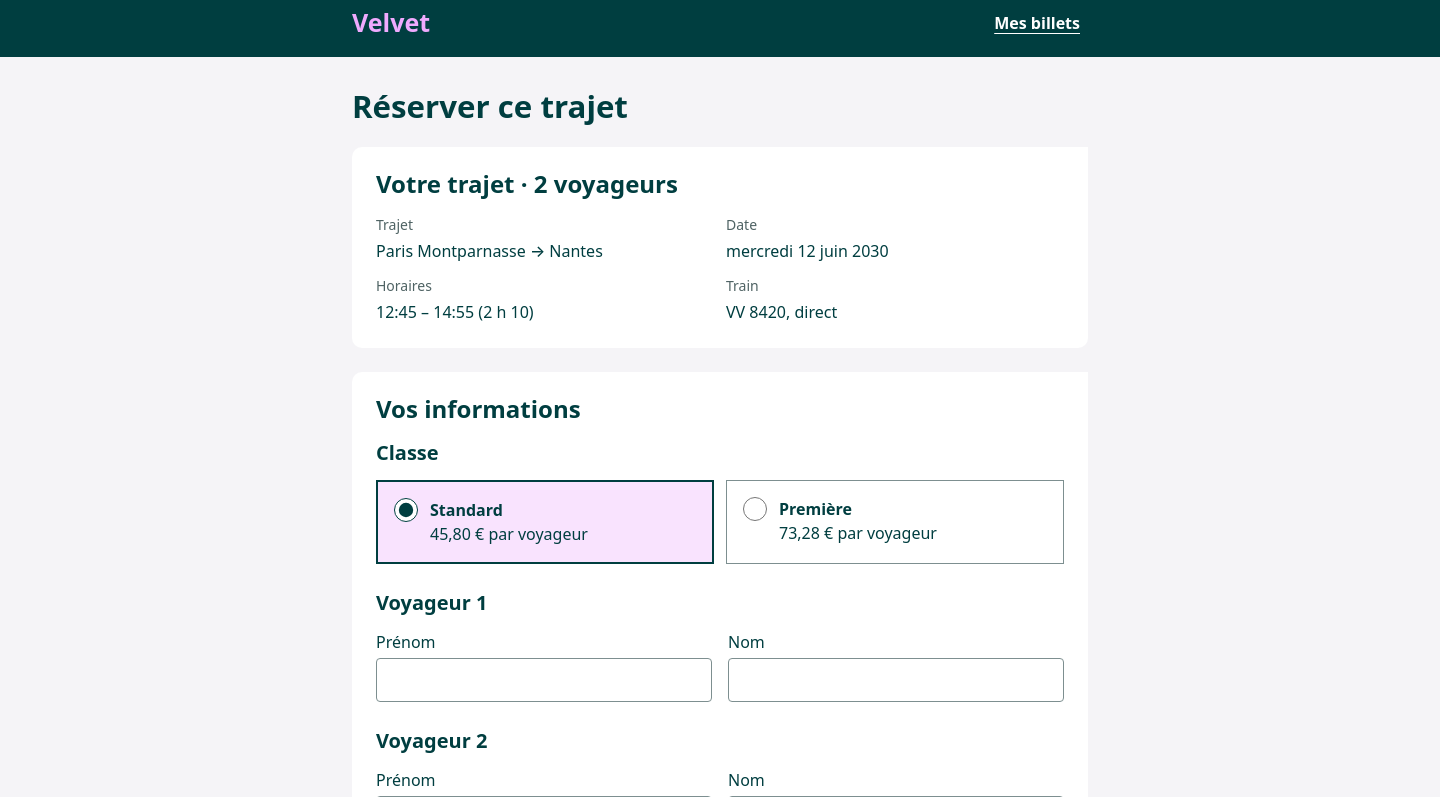
Test: réservation › réserve pour deux voyageurs, confirme et enregistre le billet sur l’appareil
In the 1st field labelled "Prénom": {"x": 544, "y": 680} x1=376 y1=658 x2=712 y2=702, type "Ada"
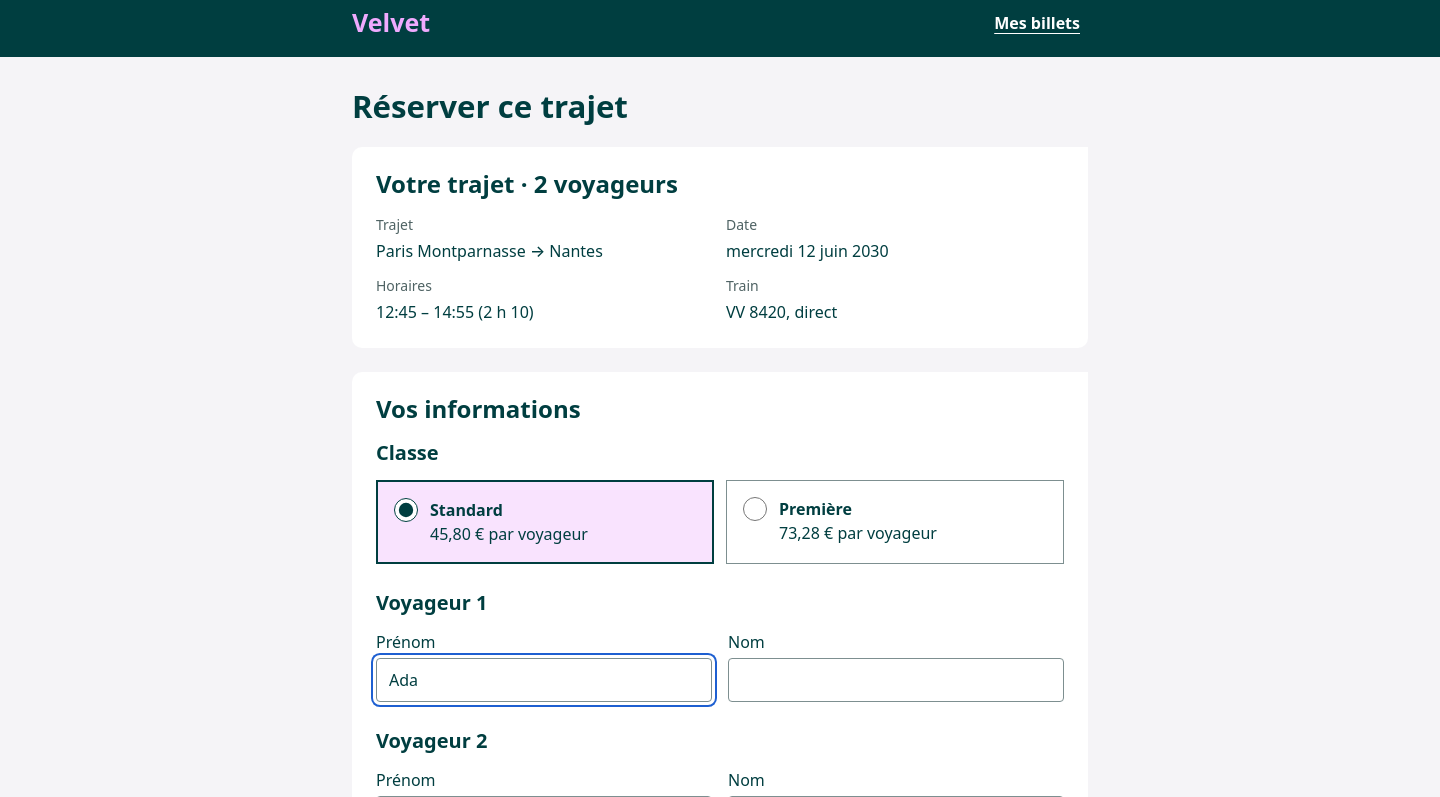
In the 1st field labelled "Nom": {"x": 896, "y": 680} x1=728 y1=658 x2=1064 y2=702, type "Lovelace"
(page scrolled)
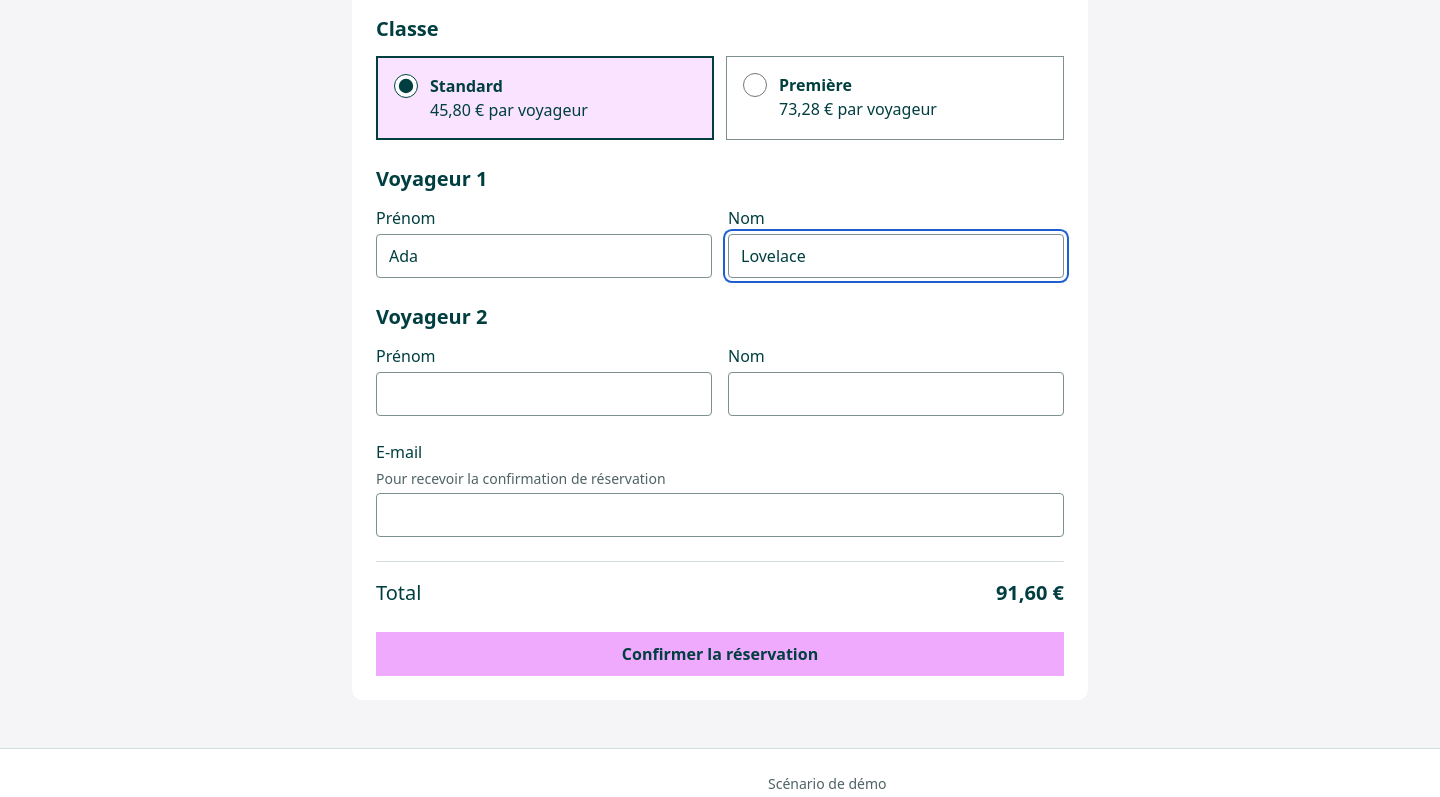
In the 2nd field labelled "Prénom": {"x": 544, "y": 394} x1=376 y1=372 x2=712 y2=416, type "Alan"
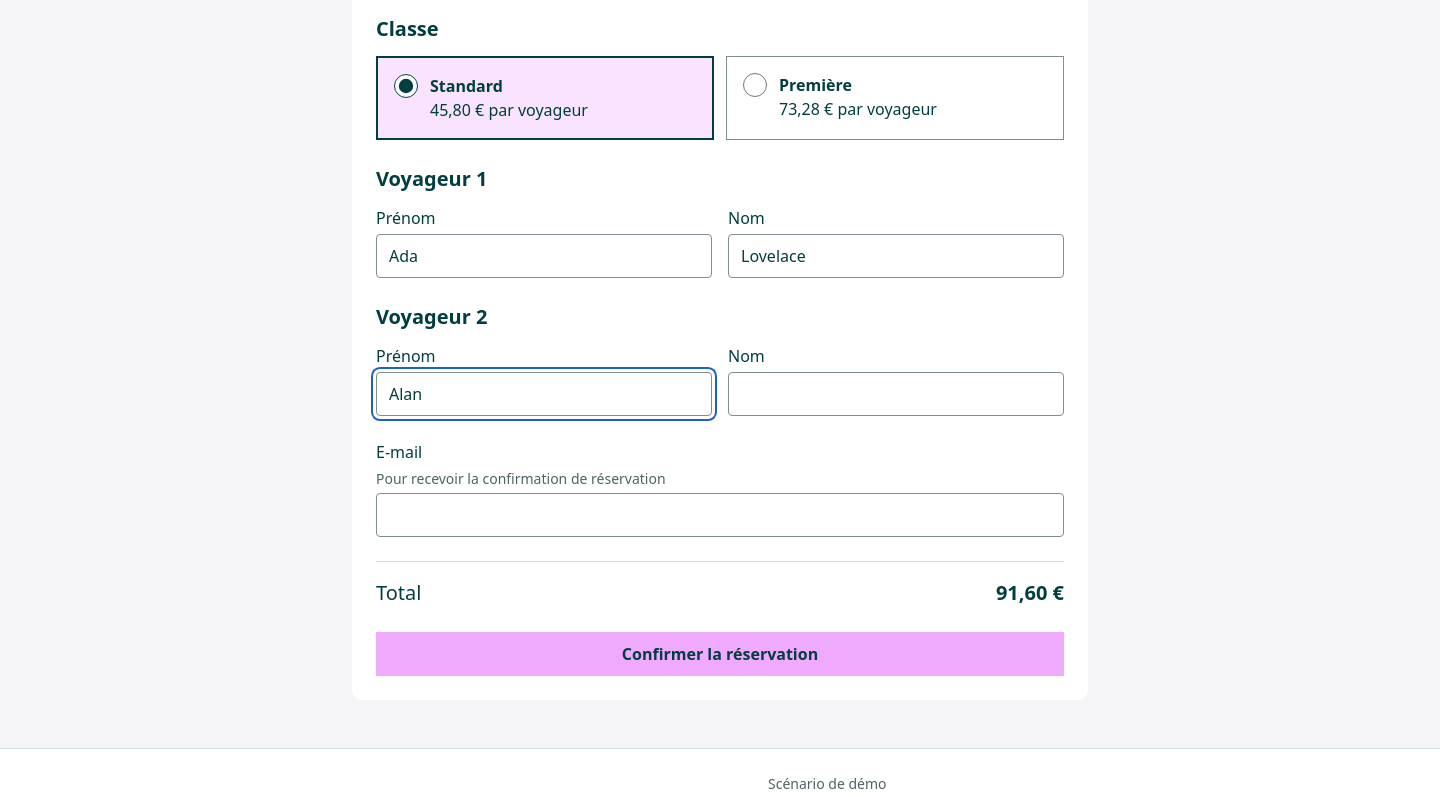
In the 2nd field labelled "Nom": {"x": 896, "y": 394} x1=728 y1=372 x2=1064 y2=416, type "Turing"
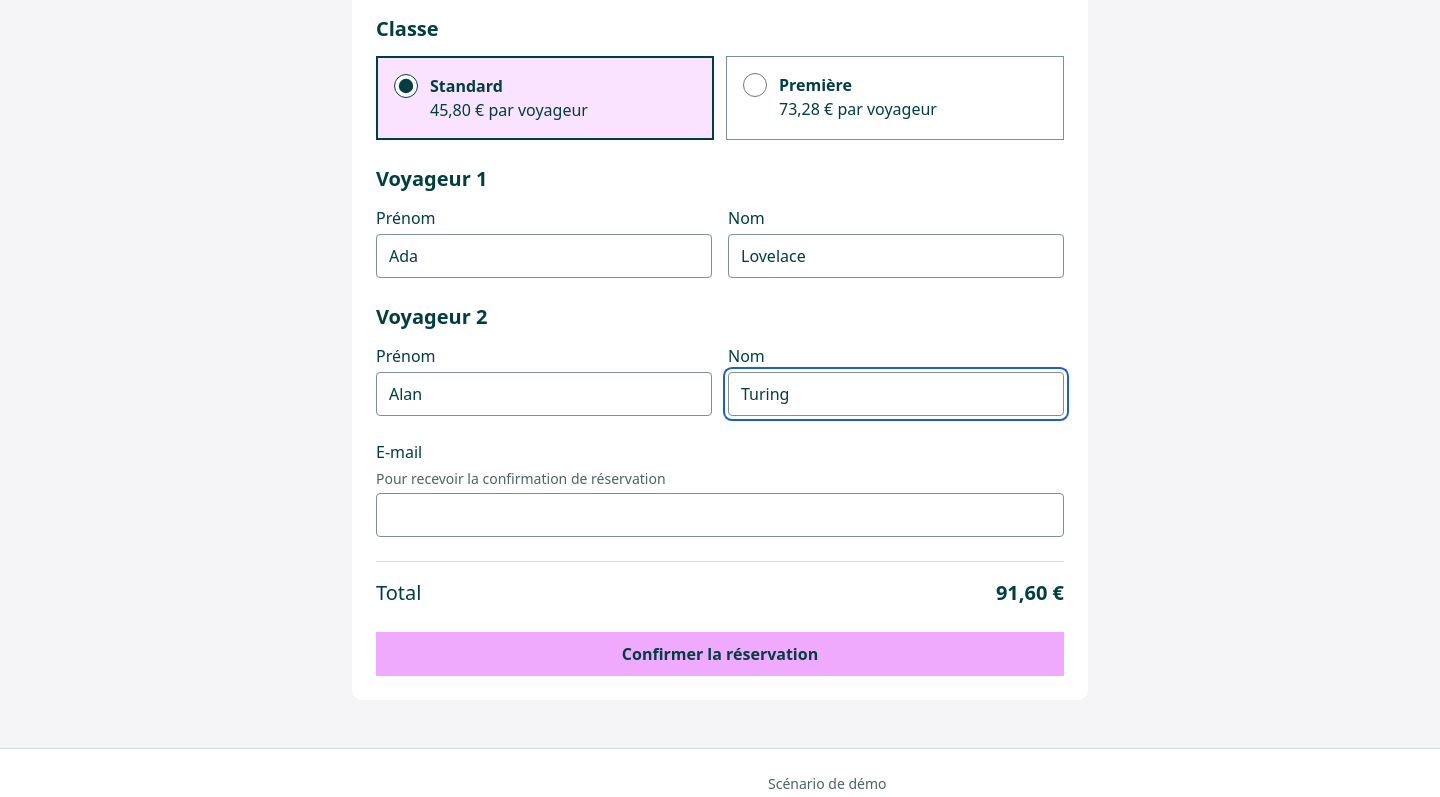
In the field labelled "E-mail": {"x": 720, "y": 515} x1=376 y1=493 x2=1064 y2=537, type "ada@exemple.fr"
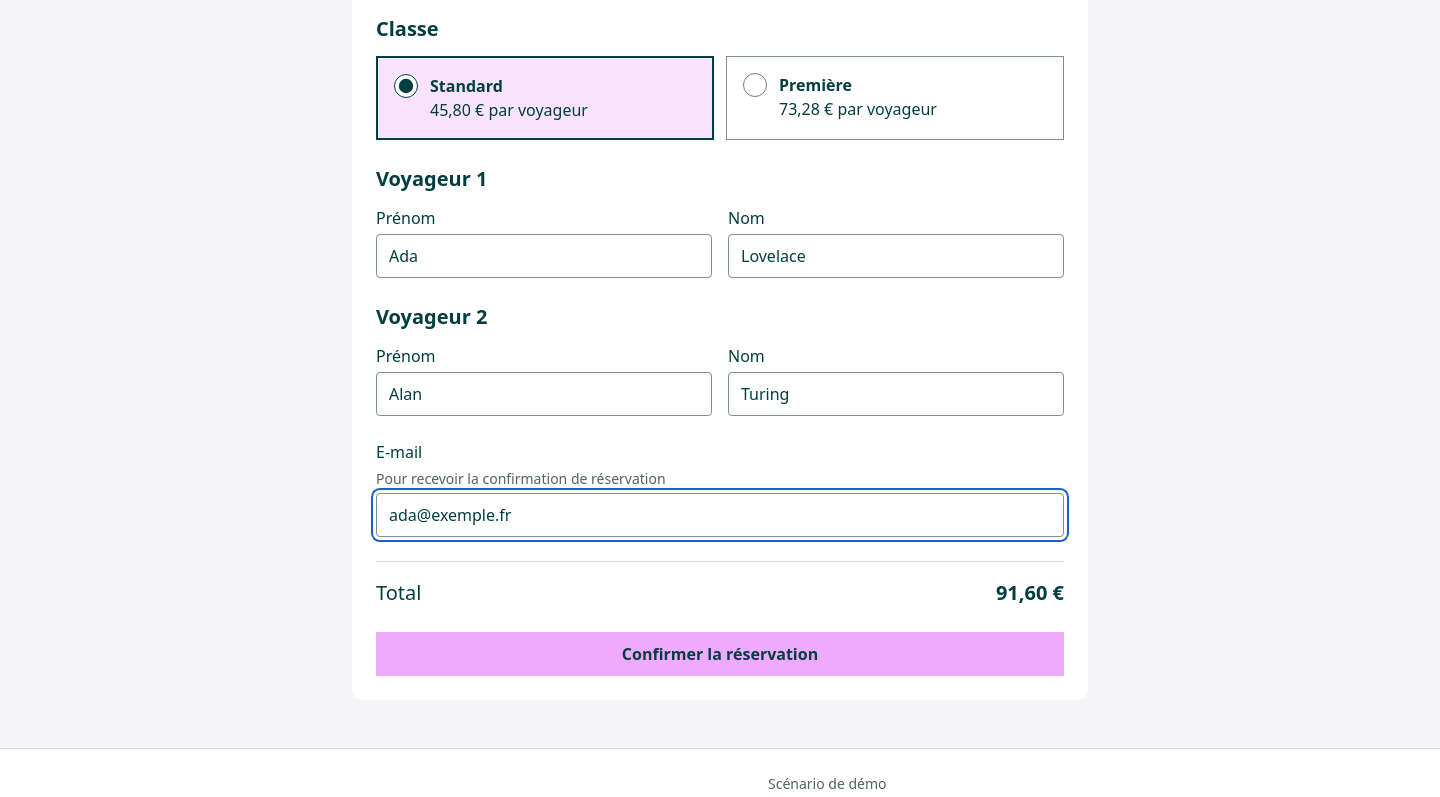
Click the button "Confirmer la réservation": {"x": 720, "y": 654} x1=376 y1=632 x2=1064 y2=676
(page scrolled)
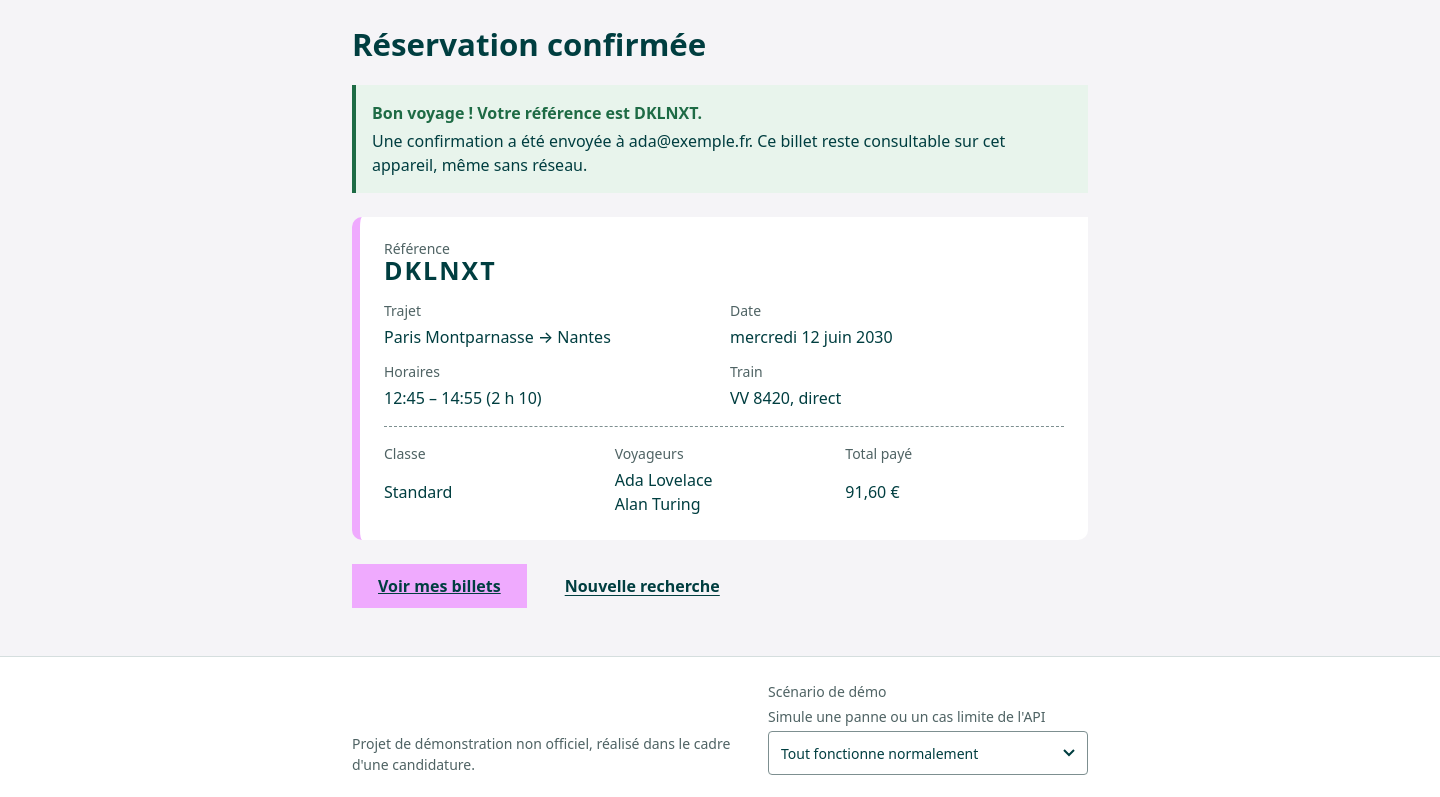
Expected: the heading "Réservation confirmée" is shown, x1=352 y1=23 x2=706 y2=65
